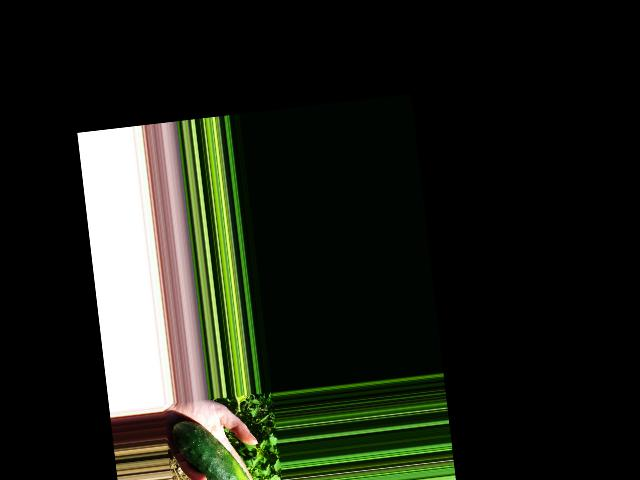cucumber: (171, 414, 263, 480)
